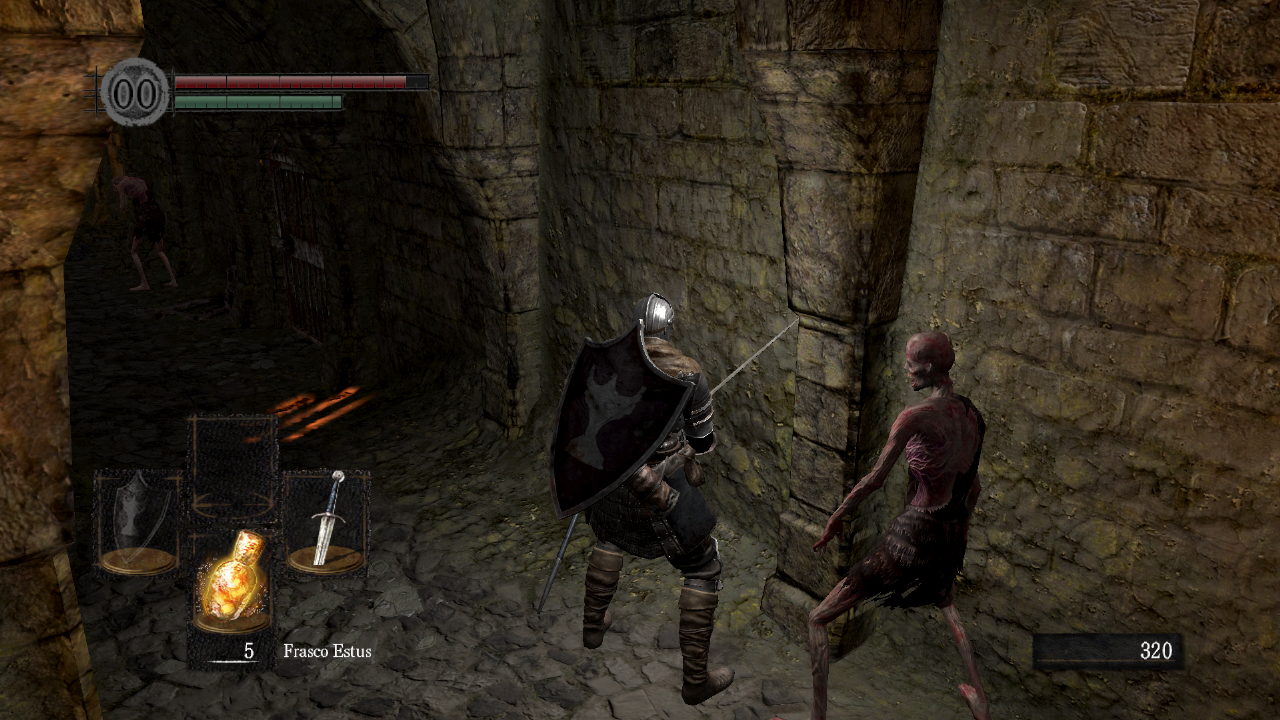hollow: (807, 331, 988, 706)
player: (538, 292, 800, 705)
